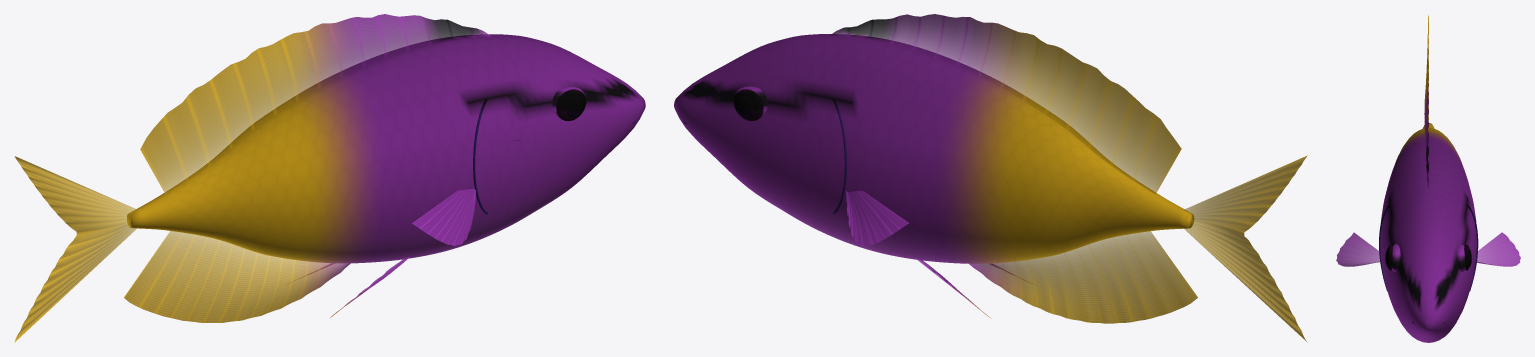
The model's file is gramma.glb.
3 renders of one model, left to right at view 1: azimuth 30°, elevation 25°; view 2: azimuth 150°, elevation 25°; view 3: azimuth 270°, elevation 25°, orthographic. The views are drawn at different scales.
Visible parts, largest first — view 1: Body, Median_Fins, Pectoral_Left, Eyes_Gills_Mouth; view 2: Body, Median_Fins, Pectoral_Right, Eyes_Gills_Mouth; view 3: Body, Eyes_Gills_Mouth, Pectoral_Right, Pectoral_Left, Median_Fins.
Boxes of the visible parts, <box> form: Body: <box>127,34,645,263</box>; Median_Fins: <box>14,14,490,342</box>; Pectoral_Left: <box>412,188,475,245</box>; Eyes_Gills_Mouth: <box>473,86,635,214</box>; Body: <box>674,34,1193,263</box>; Median_Fins: <box>829,14,1307,342</box>; Pectoral_Right: <box>845,190,908,245</box>; Eyes_Gills_Mouth: <box>683,86,846,214</box>; Body: <box>1380,123,1476,342</box>; Eyes_Gills_Mouth: <box>1379,204,1478,323</box>; Pectoral_Right: <box>1477,232,1520,266</box>; Pectoral_Left: <box>1336,232,1380,266</box>; Median_Fins: <box>1424,15,1428,188</box>.
Bounding box in the file's own units: 0.72 × 0.3032 × 0.2411.
Materials: 5 (2 with a texture image).
